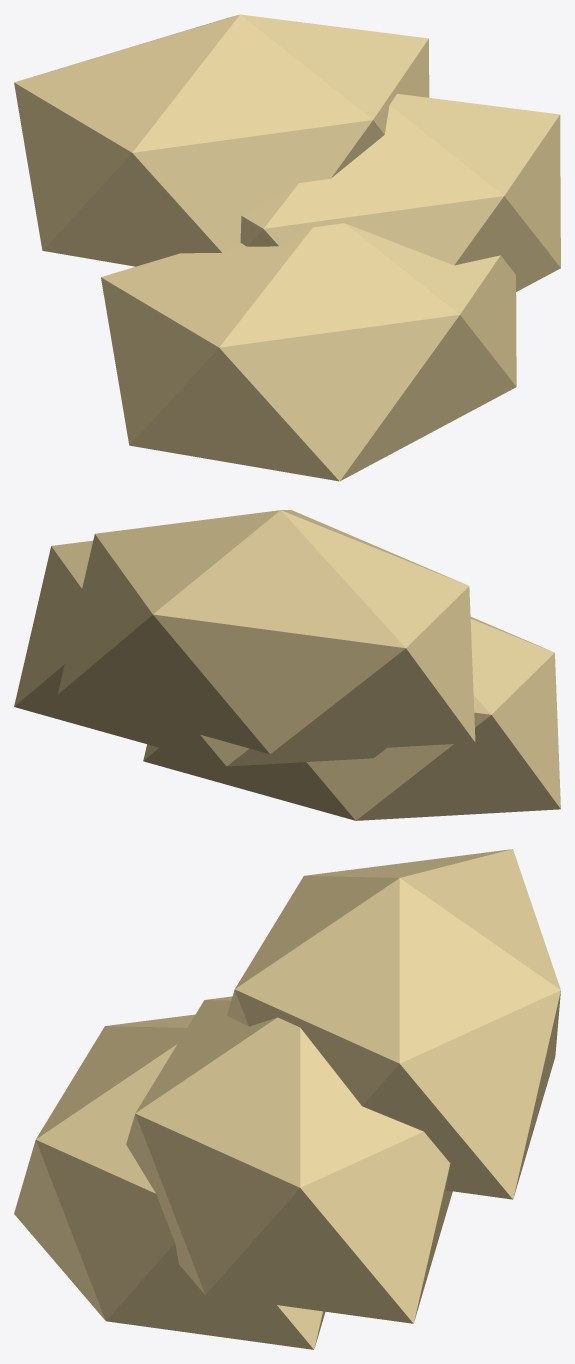
Rendered from item_060_barley_seed_m.glb.
The picture shows the model from 3 angles, top to bottom: view 1: azimuth 30°, elevation 25°; view 2: azimuth 150°, elevation 25°; view 3: azimuth 270°, elevation 25°; orthographic projection. The views are drawn at different scales.
Visible parts, largest first — view 1: item_060_barley_seed_m; view 2: item_060_barley_seed_m; view 3: item_060_barley_seed_m.
Part boxes in pixels (x1,y1,x2,y2): item_060_barley_seed_m: [14, 14, 560, 481]; item_060_barley_seed_m: [14, 510, 560, 820]; item_060_barley_seed_m: [14, 849, 560, 1349].
Size of the model in its own units: 0.3783 by 0.2873 by 0.3299.
